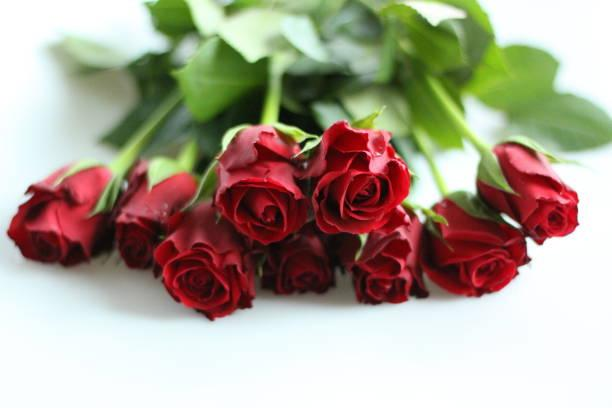organic: (11, 116, 584, 331)
